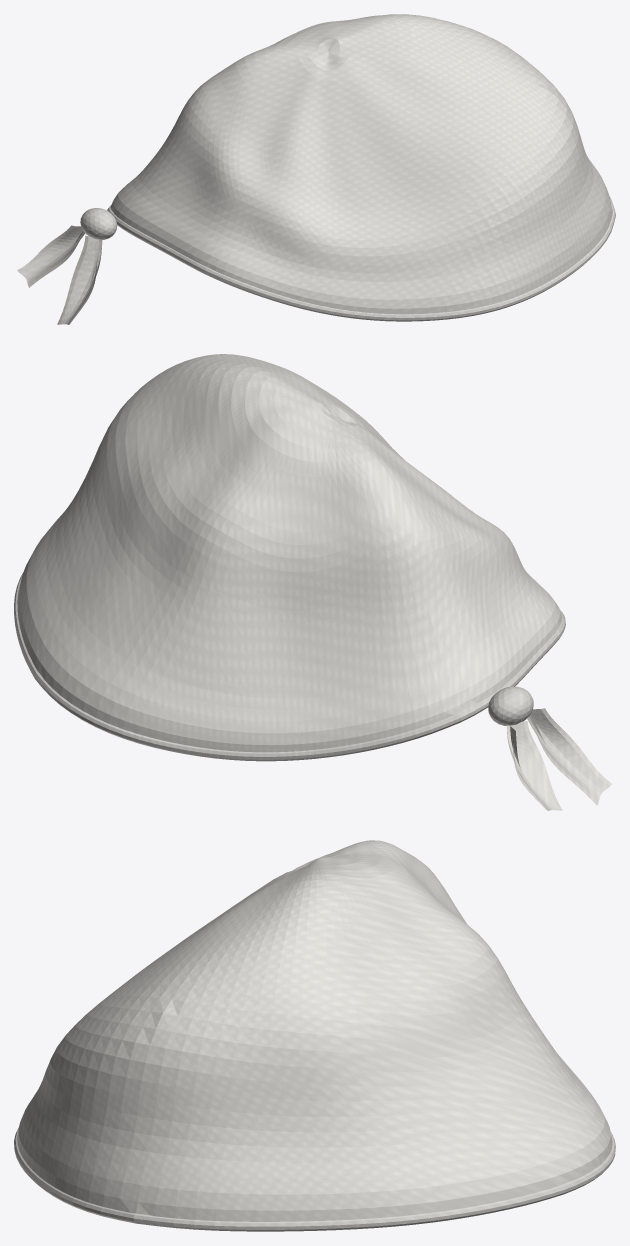
File: side_hyobe_headcloth.glb
3 views of the same model, one above another, from view 1: azimuth 30°, elevation 25°; view 2: azimuth 150°, elevation 25°; view 3: azimuth 270°, elevation 25° (orthographic). The views are drawn at different scales.
Visible parts, largest first — view 1: woven_cloth, folded_edge, wrap_ties; view 2: woven_cloth, folded_edge, wrap_ties; view 3: woven_cloth, folded_edge.
Boxes of the visible parts, bbox=[...] form: woven_cloth: bbox=[110, 14, 612, 314]; folded_edge: bbox=[80, 196, 615, 321]; wrap_ties: bbox=[17, 225, 102, 324]; woven_cloth: bbox=[17, 354, 561, 752]; folded_edge: bbox=[14, 573, 565, 761]; wrap_ties: bbox=[506, 708, 611, 810]; woven_cloth: bbox=[17, 840, 612, 1221]; folded_edge: bbox=[14, 1127, 615, 1231].
Size of the model in its own units: 12.6 by 6.35 by 10.41.
Materials: 4 (4 with a texture image).
